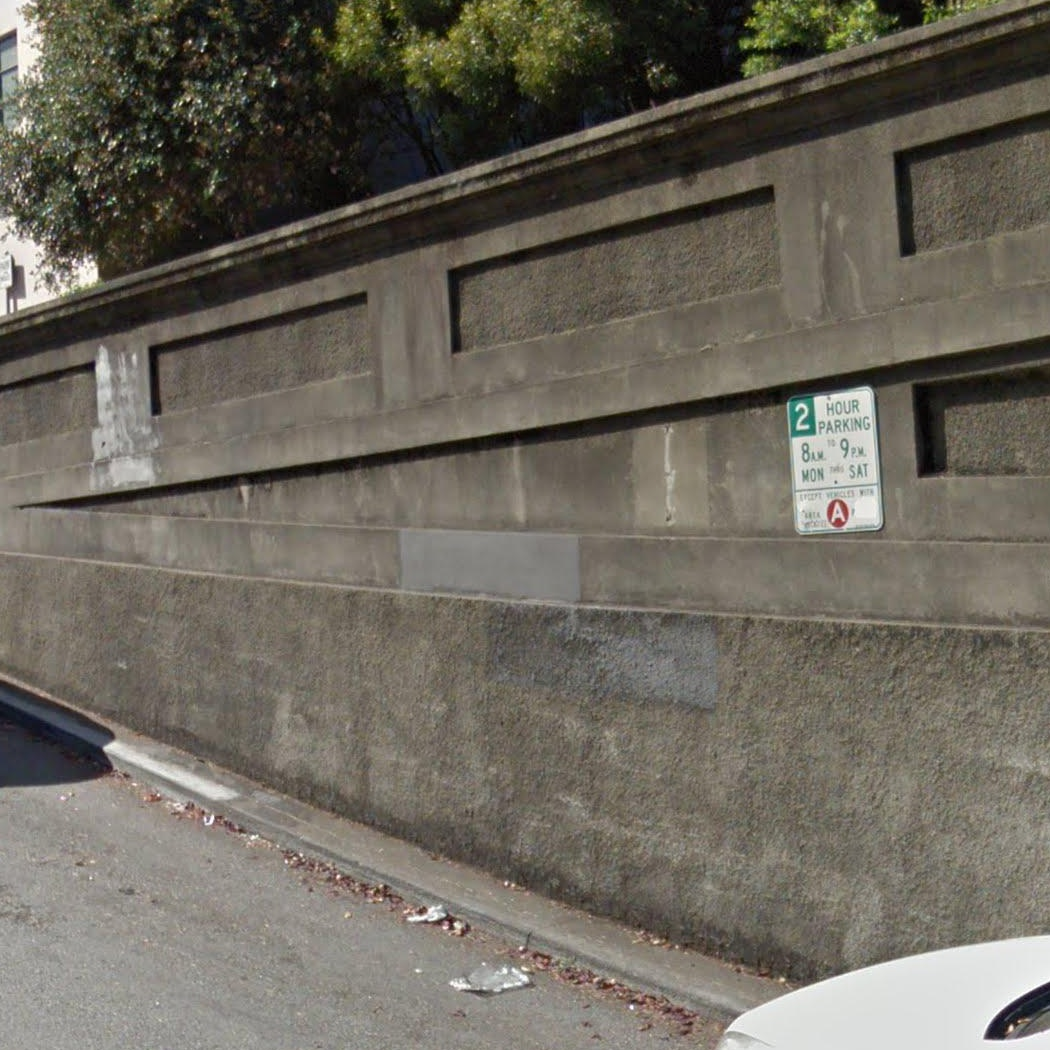2 Hour Parking: (780, 384, 889, 536)
